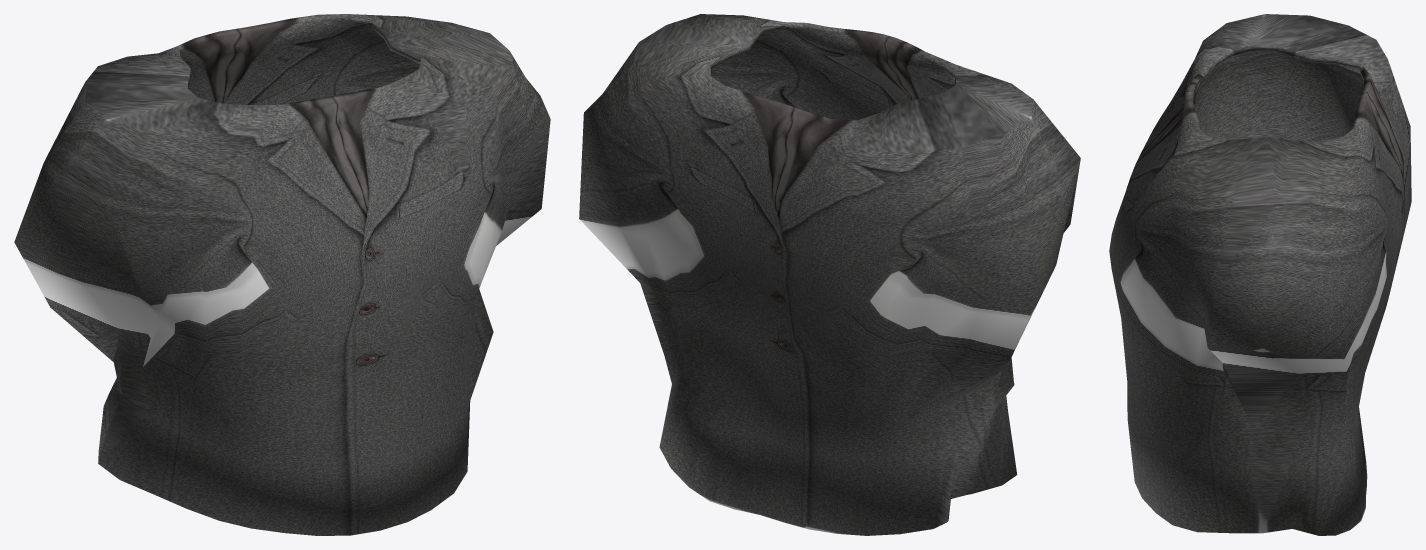
3 renders of one model, left to right at view 1: azimuth 30°, elevation 25°; view 2: azimuth 150°, elevation 25°; view 3: azimuth 270°, elevation 25°, orthographic. The views are drawn at different scales.
Parts seen in each view (by area): view 1: garment; view 2: garment; view 3: garment.
Boxes of the visible parts, box(x1,y1,x2,y2) form: garment: box(14, 14, 550, 535); garment: box(579, 14, 1080, 535); garment: box(1109, 14, 1411, 535).
Size of the model in its own units: 0.5483 by 0.4613 by 0.3221.
1 material, 1 textured.
